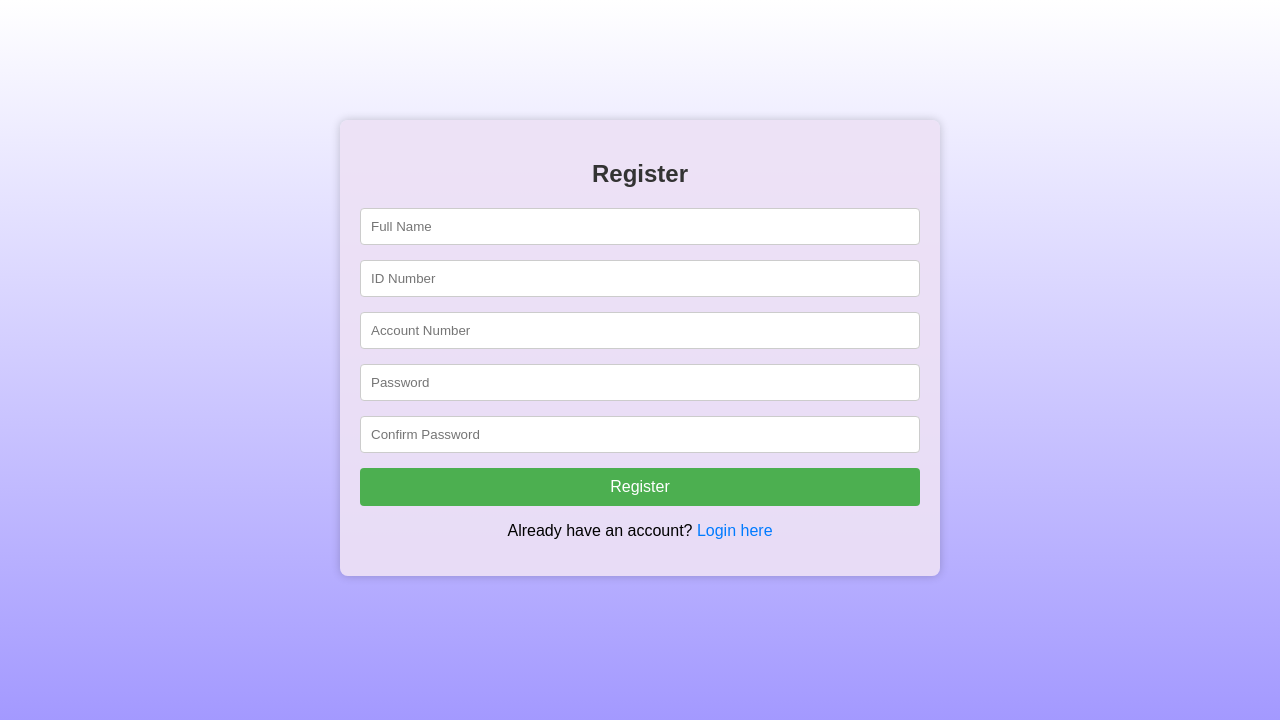
it: Register Component › displays error message when passwords do not match
In the field with placeholder "Full Name": (640, 226) [360, 208, 920, 245], type "John Doe"
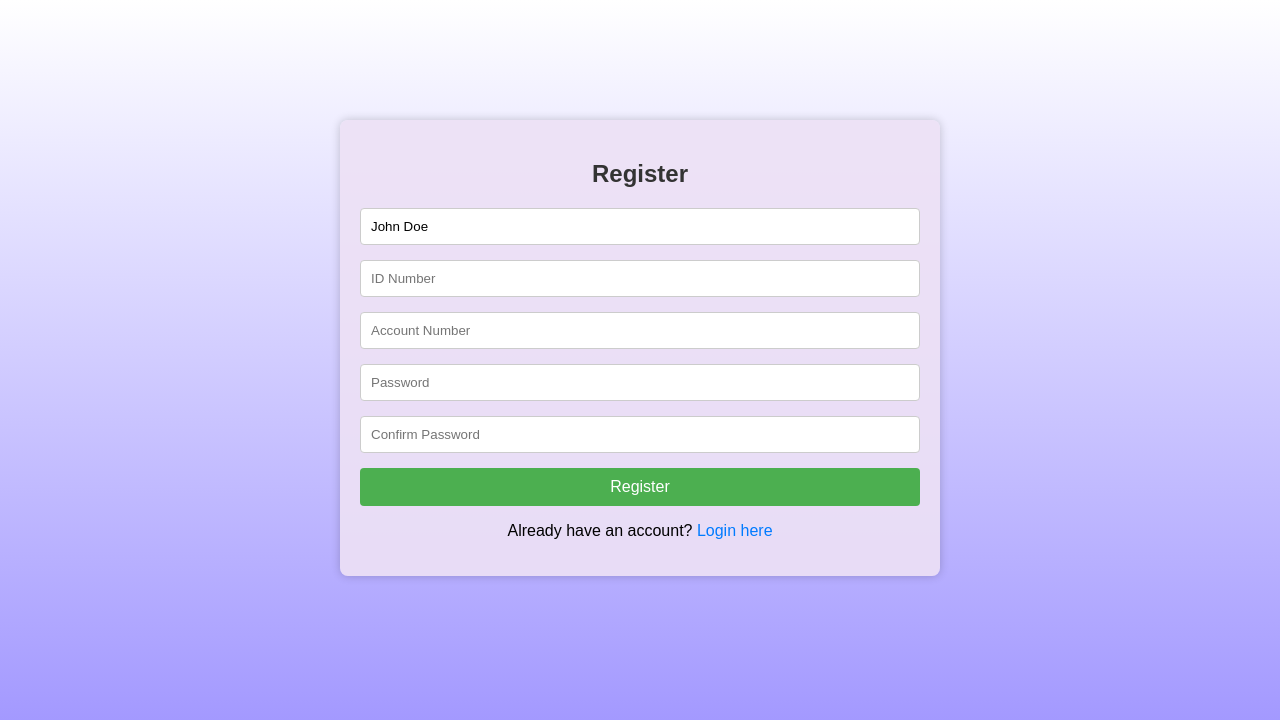
In the field with placeholder "ID Number": (640, 278) [360, 260, 920, 297], type "1234567890123"
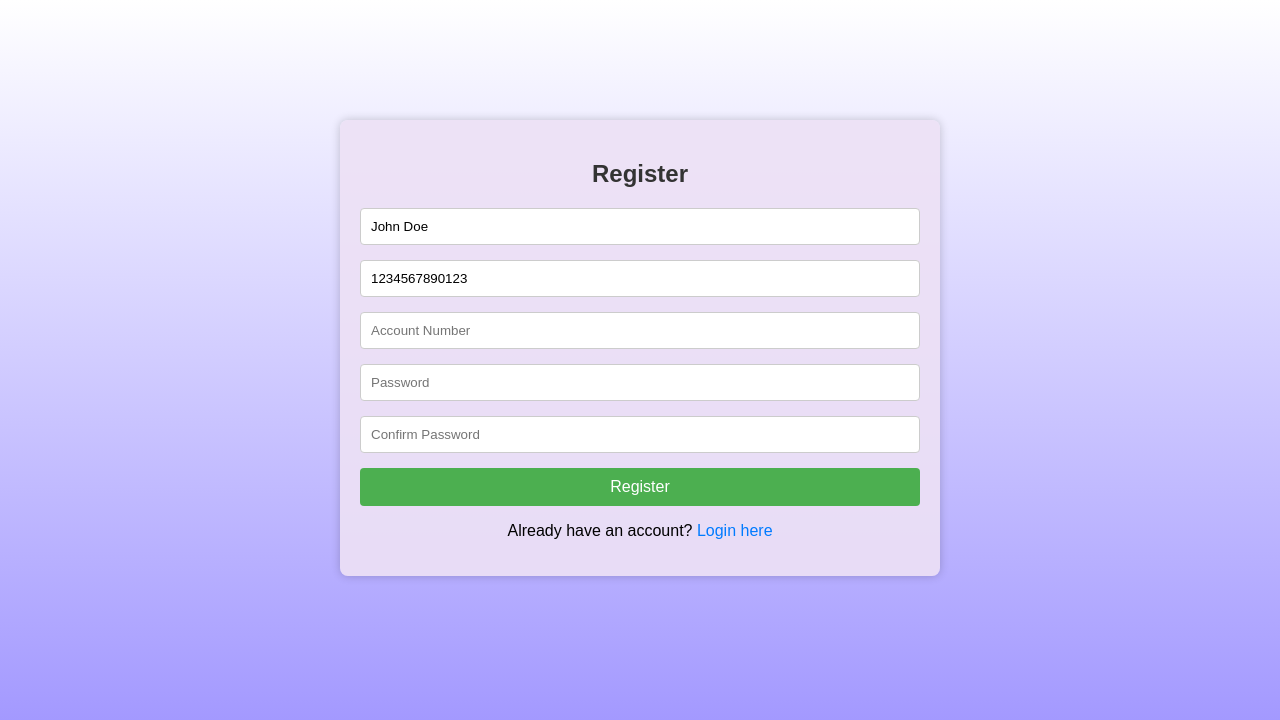
In the field with placeholder "Account Number": (640, 330) [360, 312, 920, 349], type "123456789"
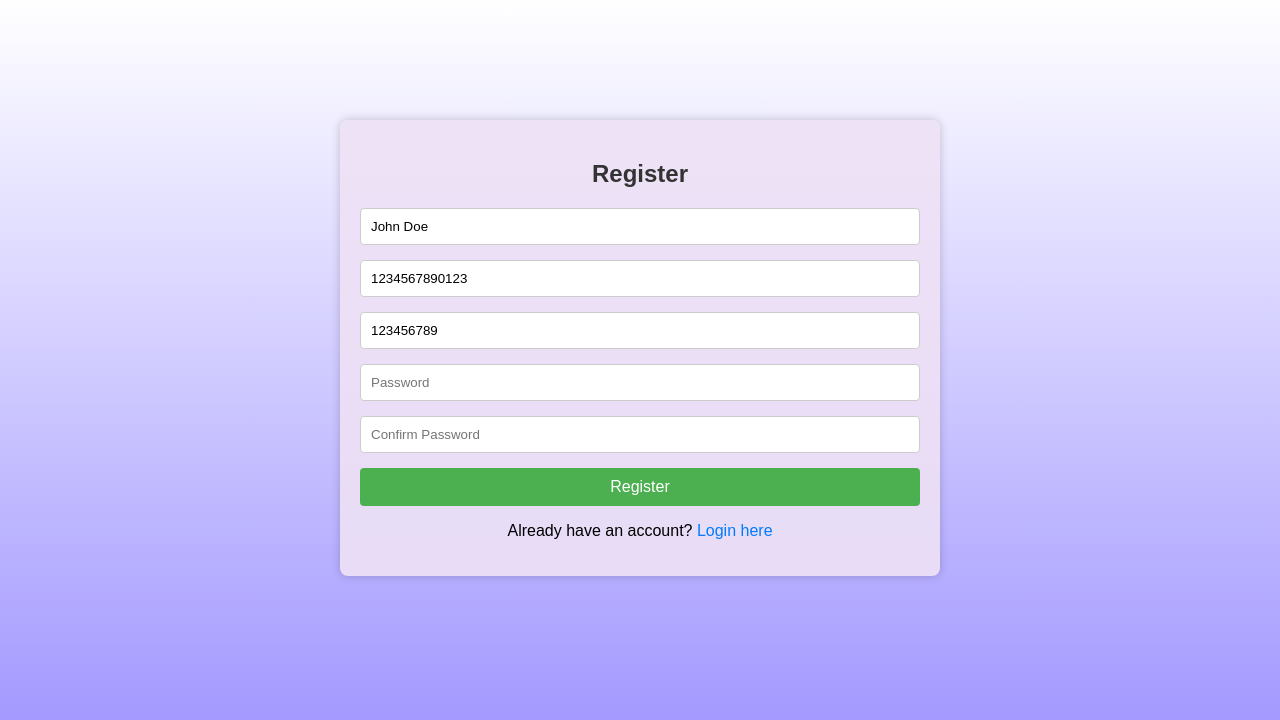
In the password field with placeholder "Password": (640, 382) [360, 364, 920, 401], type "Valid123!"
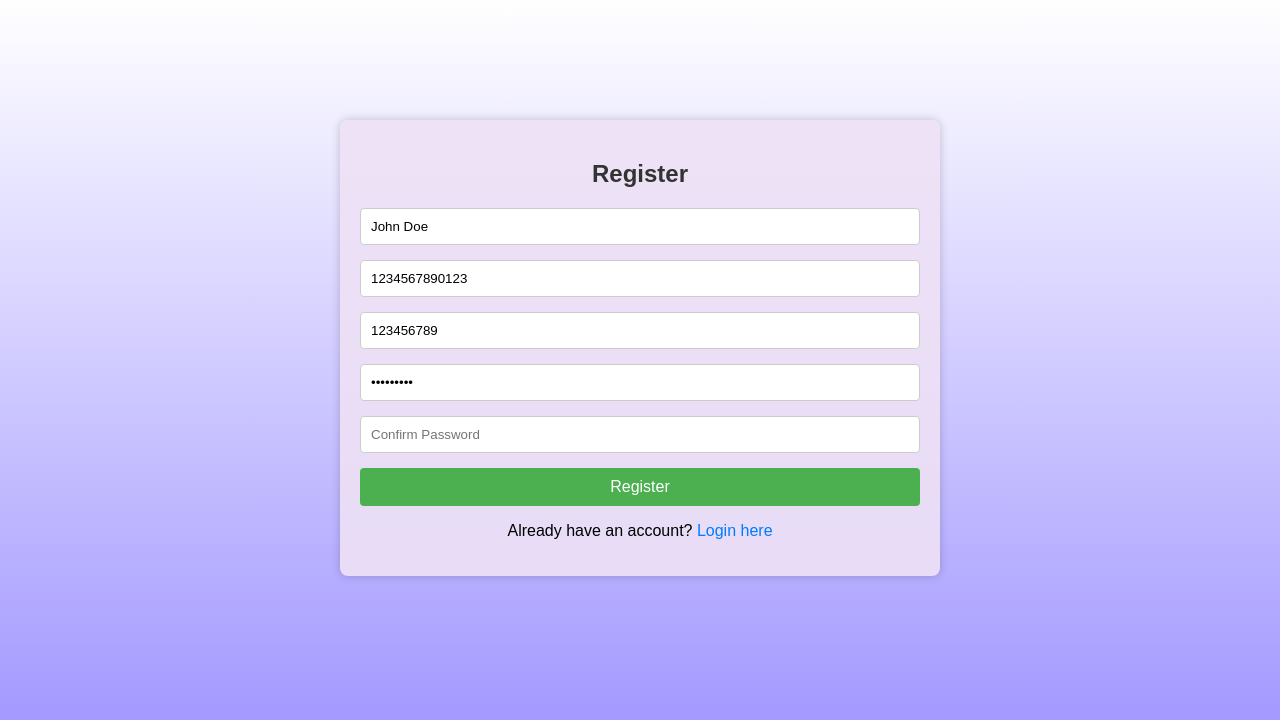
In the password field with placeholder "Confirm Password": (640, 434) [360, 416, 920, 453], type "Invalid123!"
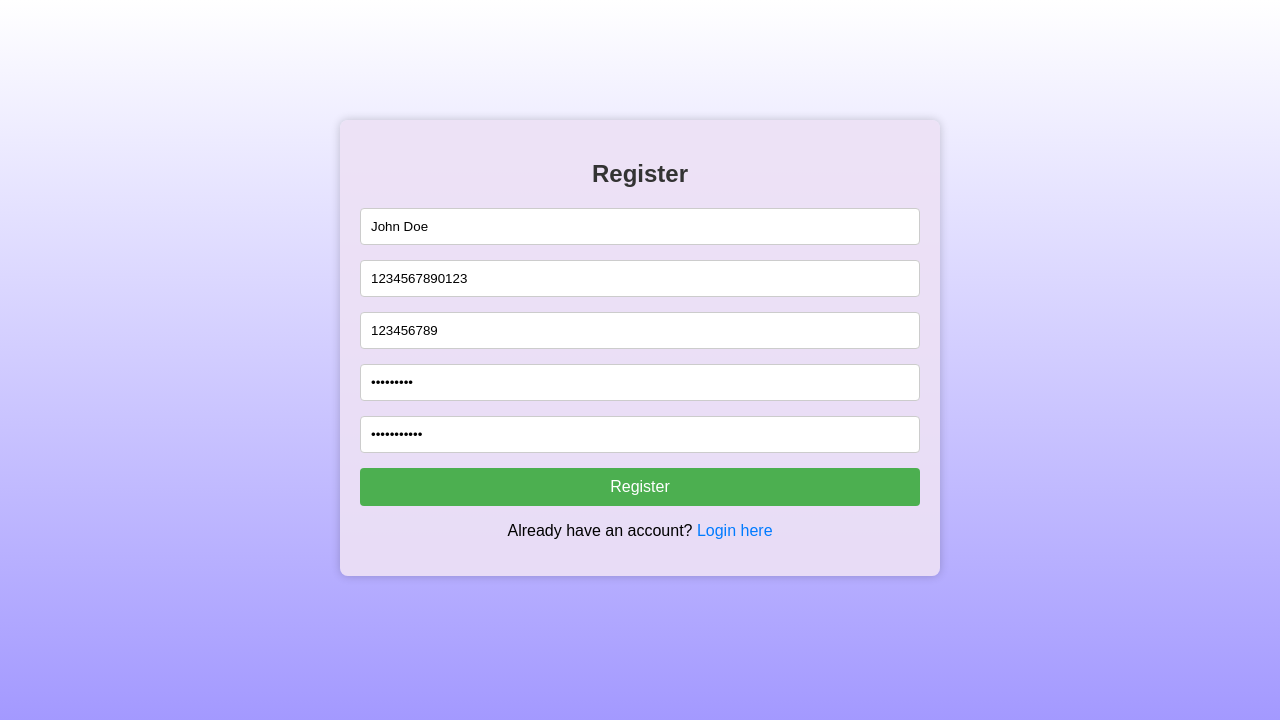
Click the button "Register": click(640, 487) [360, 468, 920, 506]
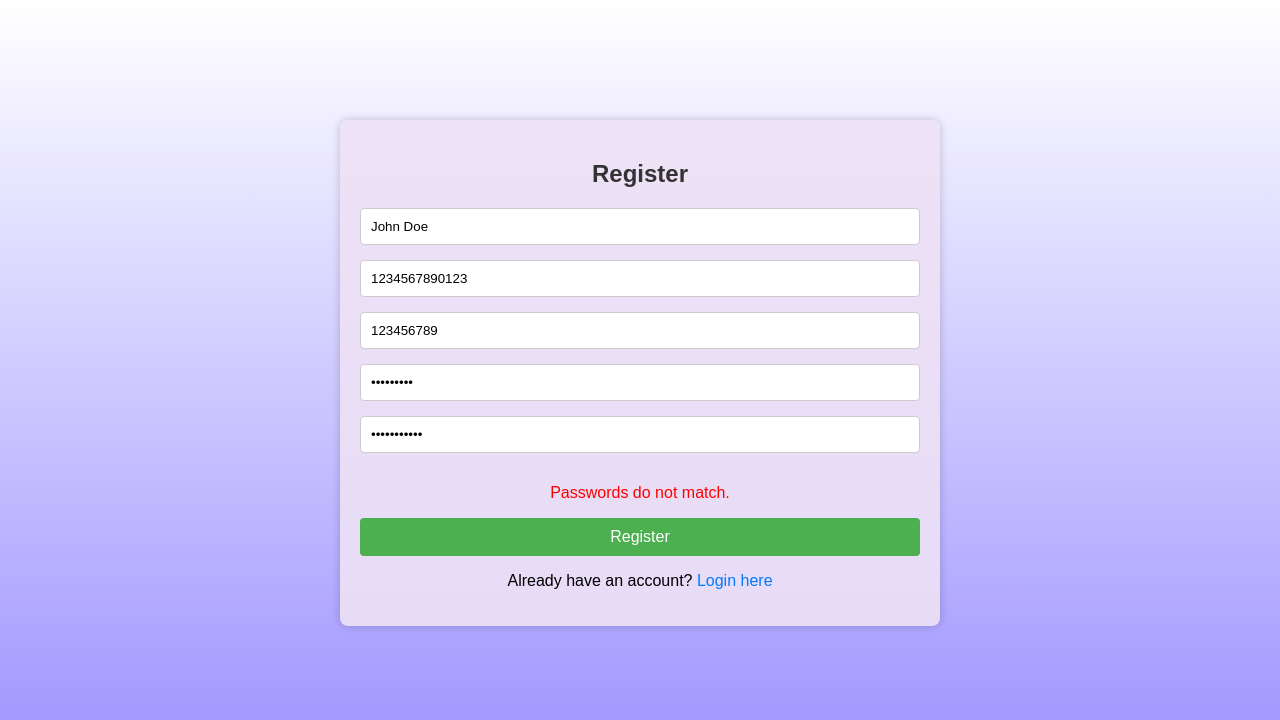
Expected: the text "Passwords do not match." is shown, [550, 484, 730, 501]
